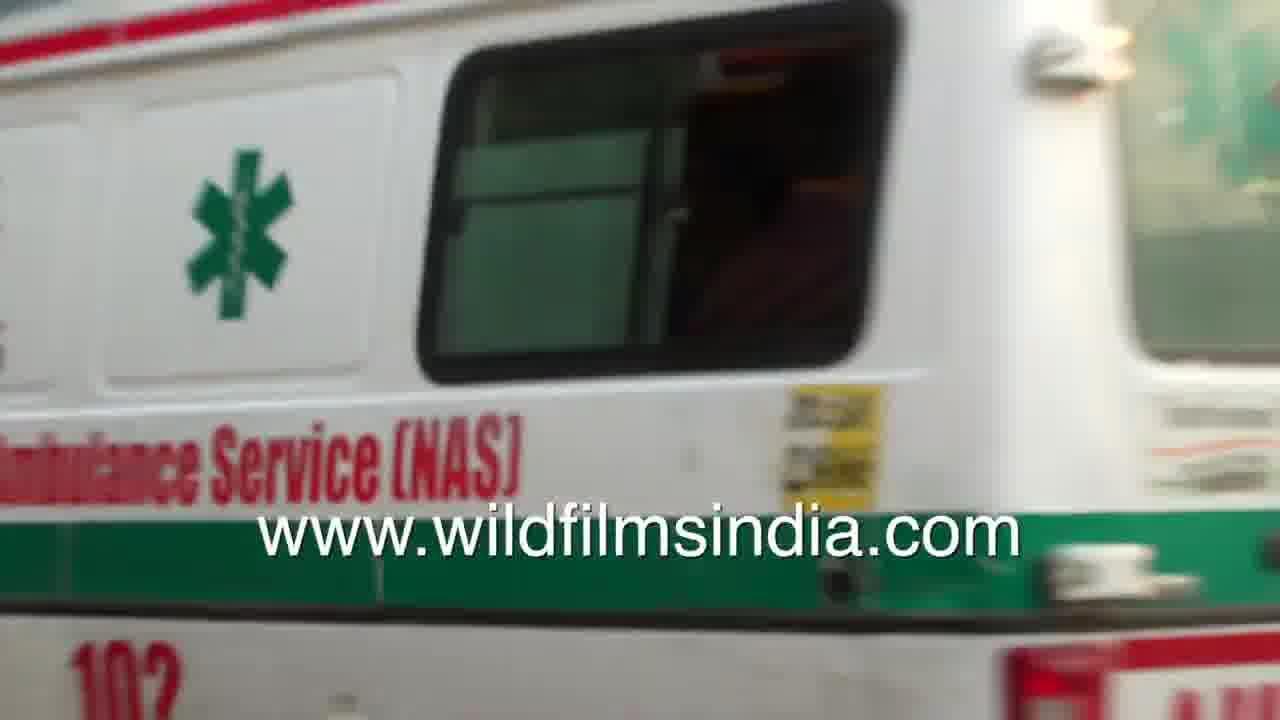AMBULANCE: (5, 134, 1244, 720)
